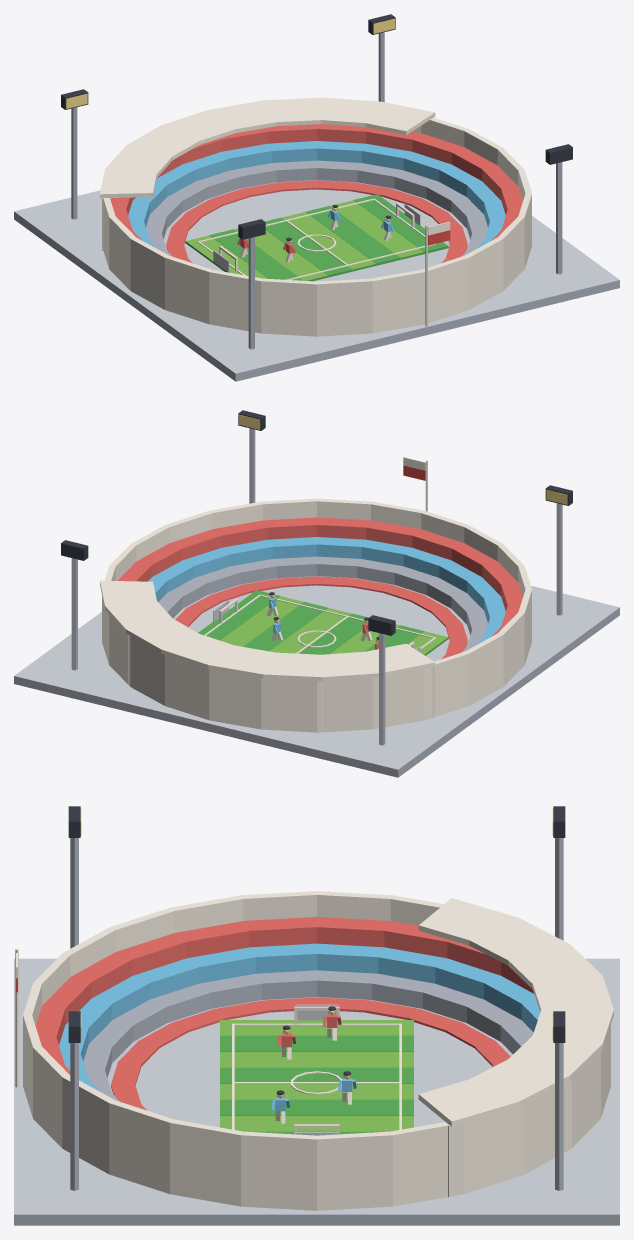
Rendered from sport_stadium.glb.
3 views of the same model, one above another, from view 1: azimuth 30°, elevation 25°; view 2: azimuth 150°, elevation 25°; view 3: azimuth 270°, elevation 25° (orthographic). The views are drawn at different scales.
Visible parts, largest first — view 1: sport_stadium; view 2: sport_stadium; view 3: sport_stadium.
Part boxes in pixels (x1,y1,x2,y2): sport_stadium: (14,14,619,381); sport_stadium: (14,410,619,777); sport_stadium: (14,806,619,1225).
Bounding box in the file's own units: 2 × 0.66 × 2.
